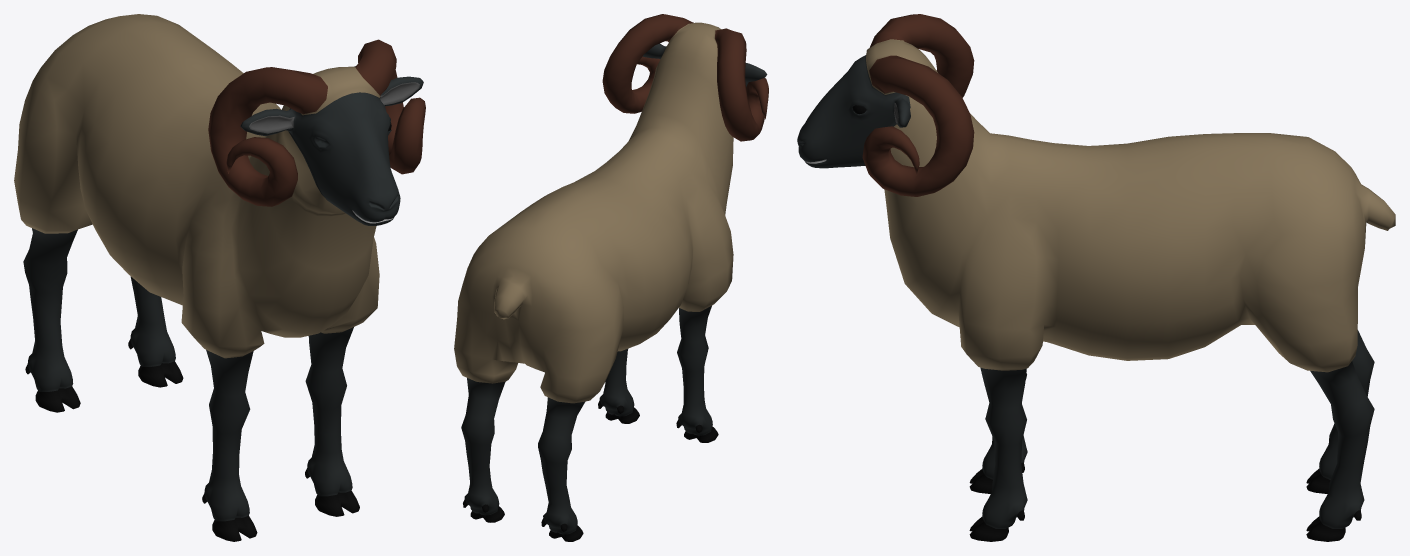
The model's file is ram_sheep.obj.
The picture shows the model from 3 angles, left to right: view 1: azimuth 30°, elevation 25°; view 2: azimuth 150°, elevation 25°; view 3: azimuth 270°, elevation 25°; orthographic projection. The views are drawn at different scales.
Visible parts, largest first — view 1: ram_sheep; view 2: ram_sheep; view 3: ram_sheep.
Boxes of the visible parts, x1,y1,x2,y2 form: ram_sheep: [14, 14, 425, 541]; ram_sheep: [454, 14, 768, 541]; ram_sheep: [797, 14, 1395, 541].
Bounding box in the file's own units: 0.5553 × 1.3 × 1.49.
